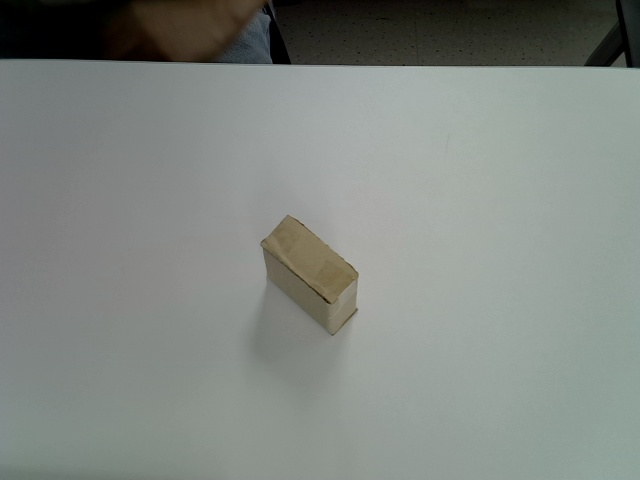normal: (260, 215, 359, 336)
